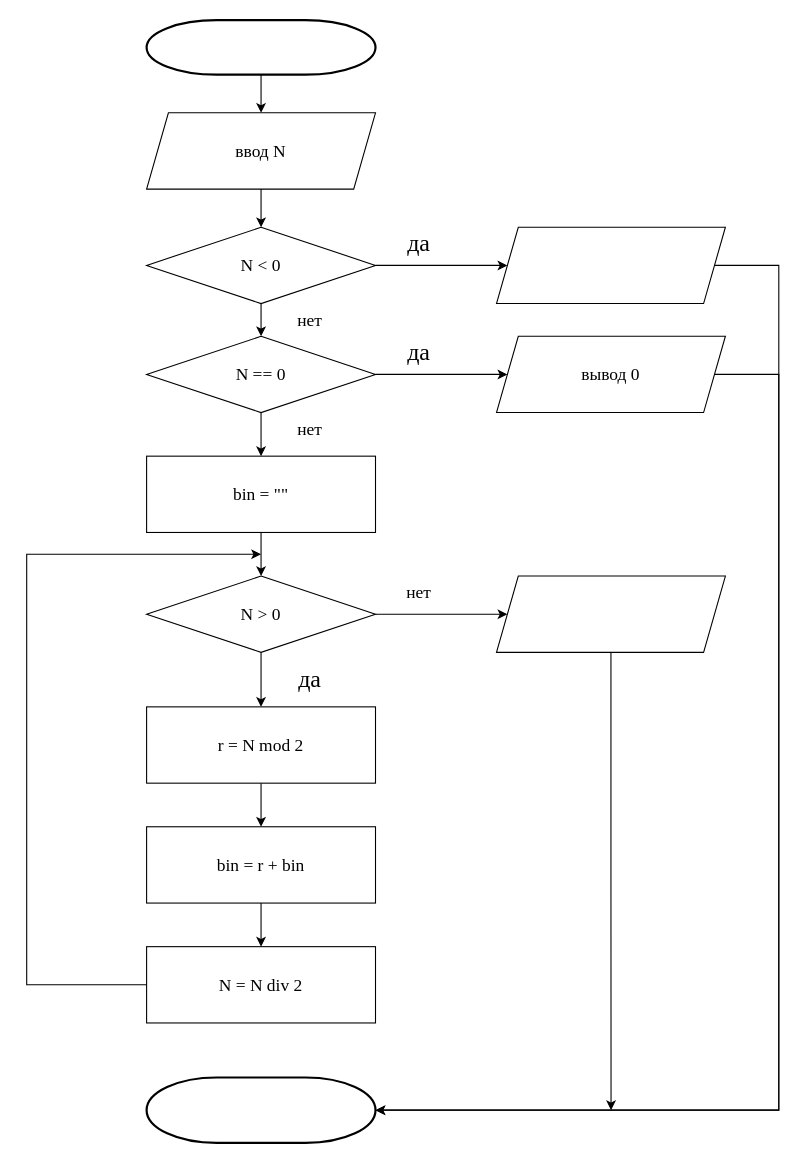
This 807x1162 diagram has some shape labels left out. Here are the shapes that lost their labels. From the top down, the centre of each, then its label:
[260,47]: начало
[610,265]: вывод "некорректный ввод"
[610,613]: вывод bin
[260,1109]: конец
